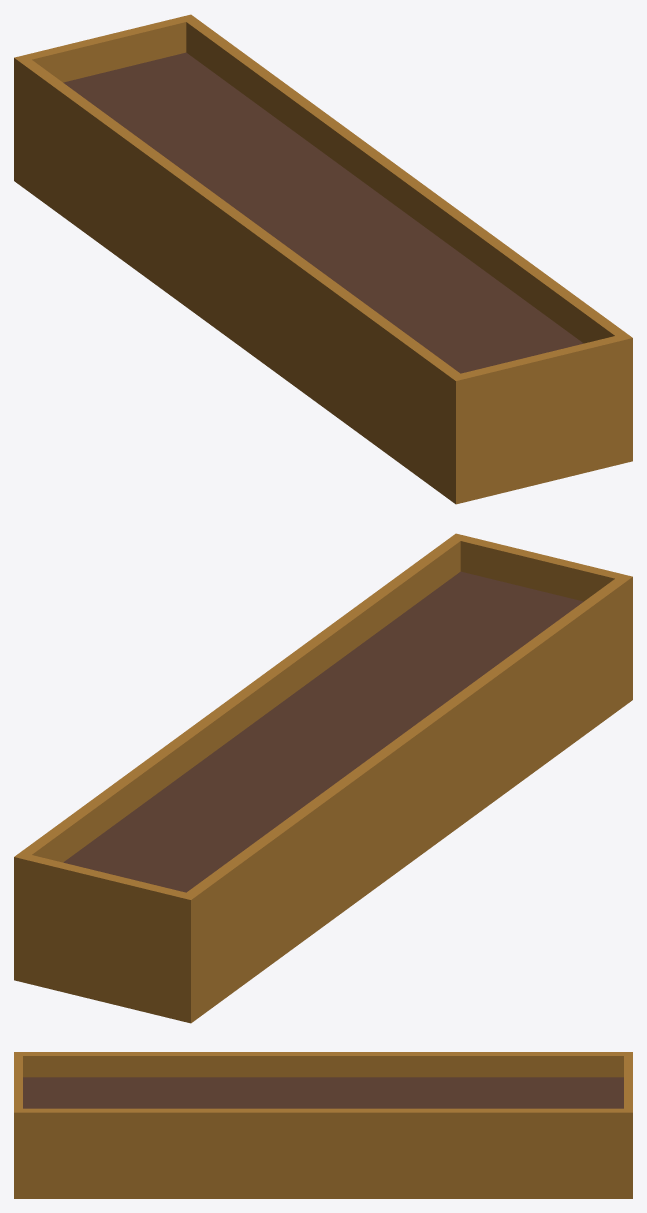
Rendered from Garder bed.fbx.
The picture shows the model from 3 angles, top to bottom: view 1: azimuth 30°, elevation 25°; view 2: azimuth 150°, elevation 25°; view 3: azimuth 270°, elevation 25°; orthographic projection. The views are drawn at different scales.
Parts seen in each view (by area): view 1: pCube1; view 2: pCube1; view 3: pCube1.
Boxes of the visible parts, box(x1,y1,x2,y2) form: pCube1: box(14, 14, 632, 504); pCube1: box(14, 533, 632, 1023); pCube1: box(14, 1052, 632, 1198).
Bounding box in the file's own units: 0.3942 × 0.2624 × 1.7.
Materials: 1 (1 with a texture image).
